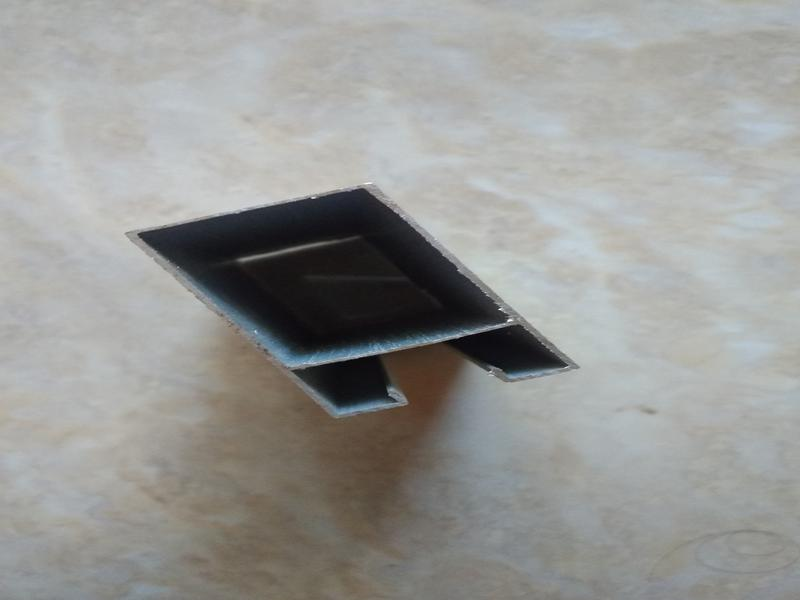Aluminium_1: (102, 163, 603, 429)
